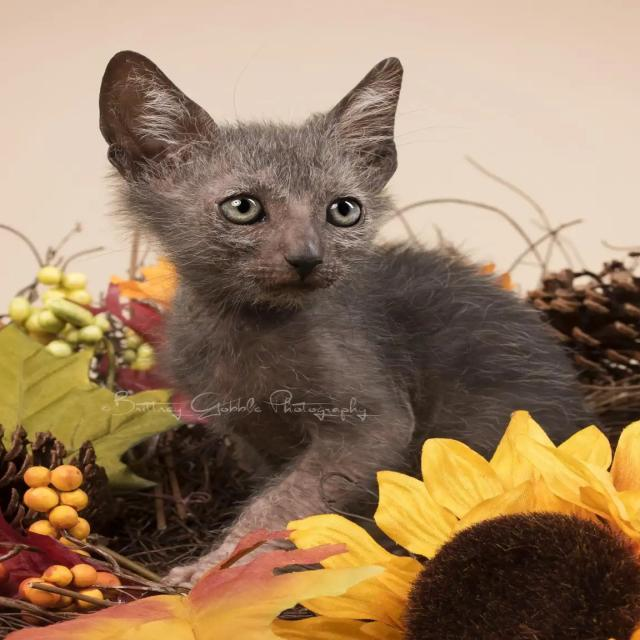Lykoi: (90, 40, 594, 595)
